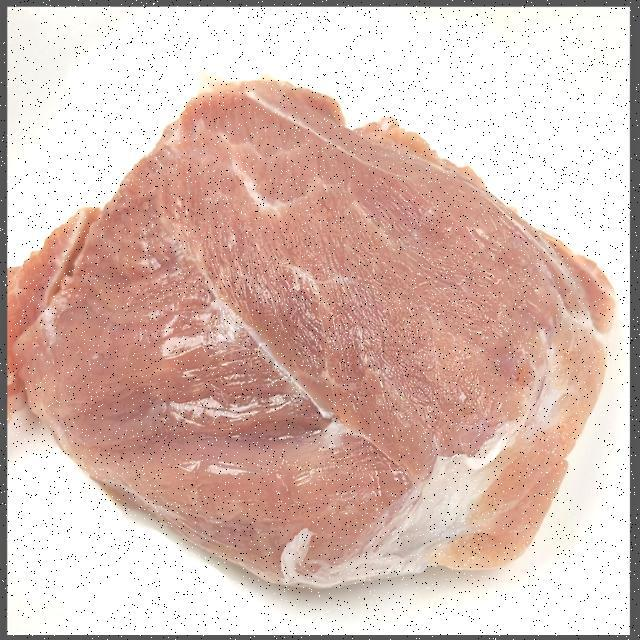pork: (14, 77, 607, 590)
